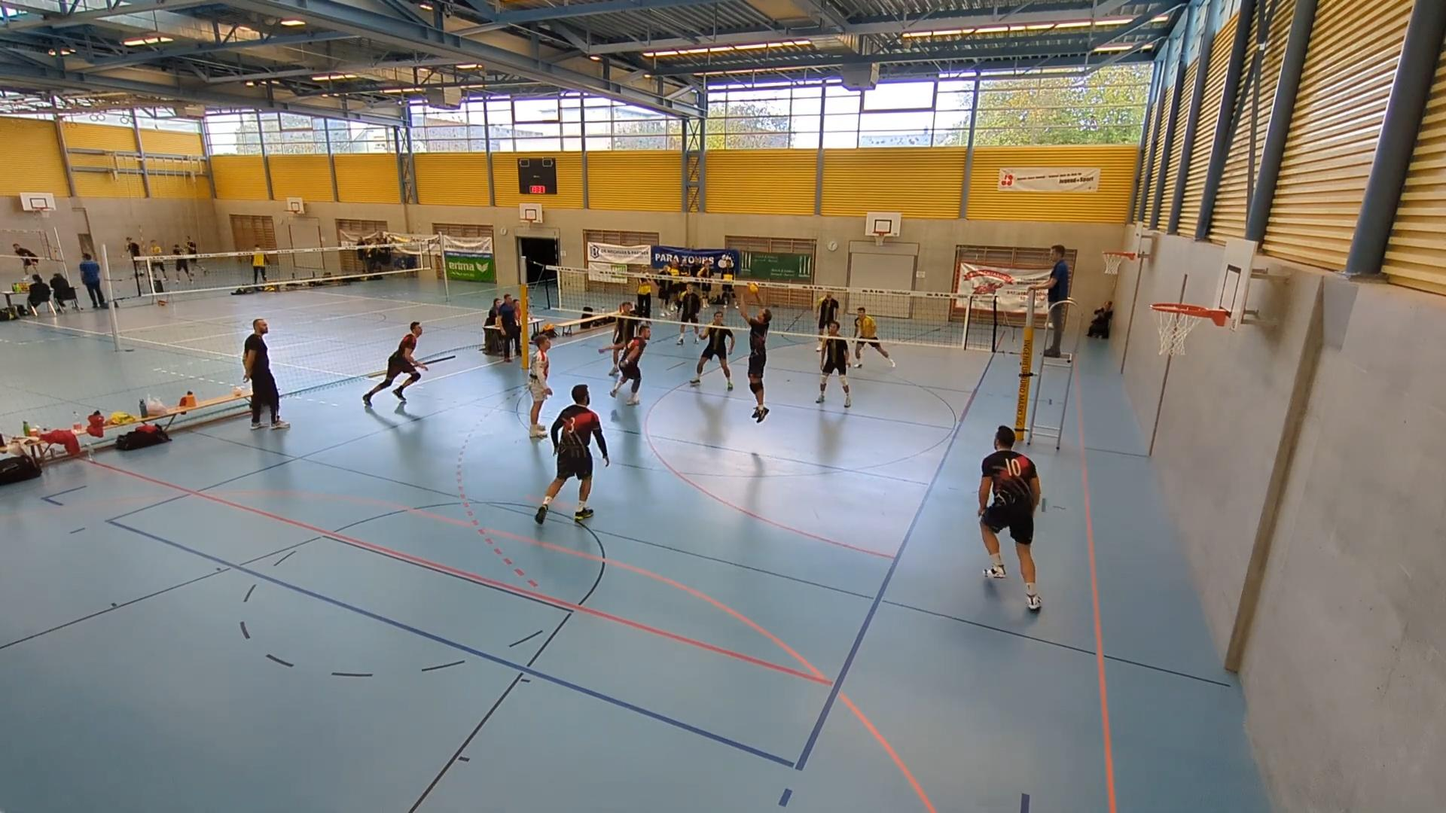Player: (978, 427, 1041, 610), (535, 384, 609, 524), (362, 321, 427, 406), (599, 324, 650, 405), (689, 311, 734, 390), (816, 321, 850, 407), (528, 331, 552, 438), (854, 306, 895, 367), (606, 302, 638, 375), (677, 285, 702, 344), (815, 291, 840, 349)
Set: (739, 296, 776, 423)
ball: (745, 282, 762, 292)
